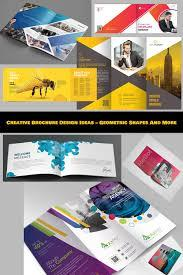paper: (0, 3, 183, 275)
